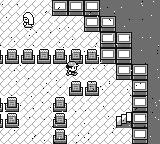main: (66, 61, 78, 76)
no-caminable: (53, 0, 147, 143), (99, 0, 159, 143), (0, 47, 100, 64), (50, 95, 68, 144), (0, 95, 20, 129), (68, 80, 100, 96)
npc: (21, 12, 34, 28)
puerta: (115, 111, 131, 127)
